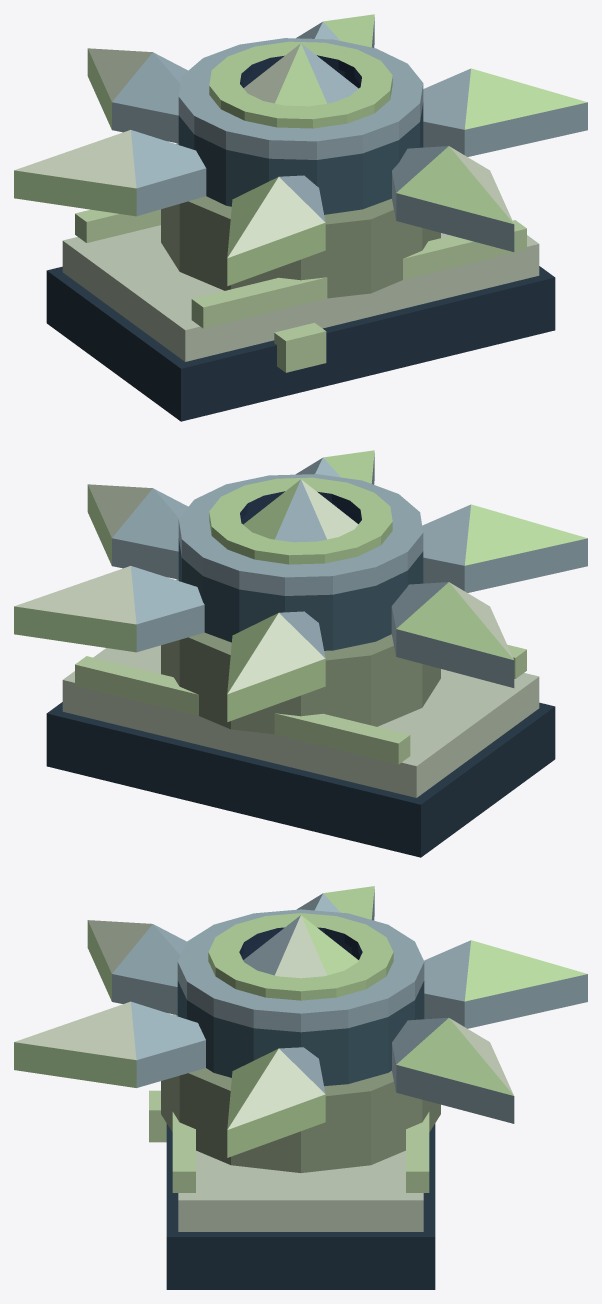
Rendered from module-blade.glb.
3 views of the same model, one above another, from view 1: azimuth 30°, elevation 25°; view 2: azimuth 150°, elevation 25°; view 3: azimuth 270°, elevation 25° (orthographic).
Parts seen in each view (by area): view 1: 环刃发生器; view 2: 环刃发生器; view 3: 环刃发生器.
Part boxes in pixels (x1=…): 环刃发生器: x1=14, y1=14, x2=587, y2=421; 环刃发生器: x1=14, y1=450, x2=587, y2=857; 环刃发生器: x1=14, y1=886, x2=587, y2=1289.
Size of the model in its own units: 0.4945 by 0.268 by 0.4914.
